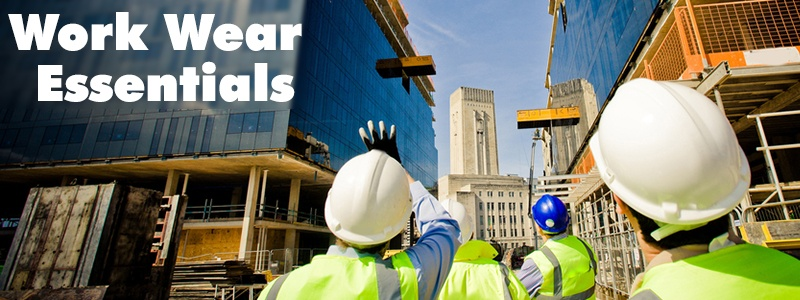white: (591, 77, 753, 244), (324, 150, 413, 257)
yellow: (529, 196, 568, 238)
